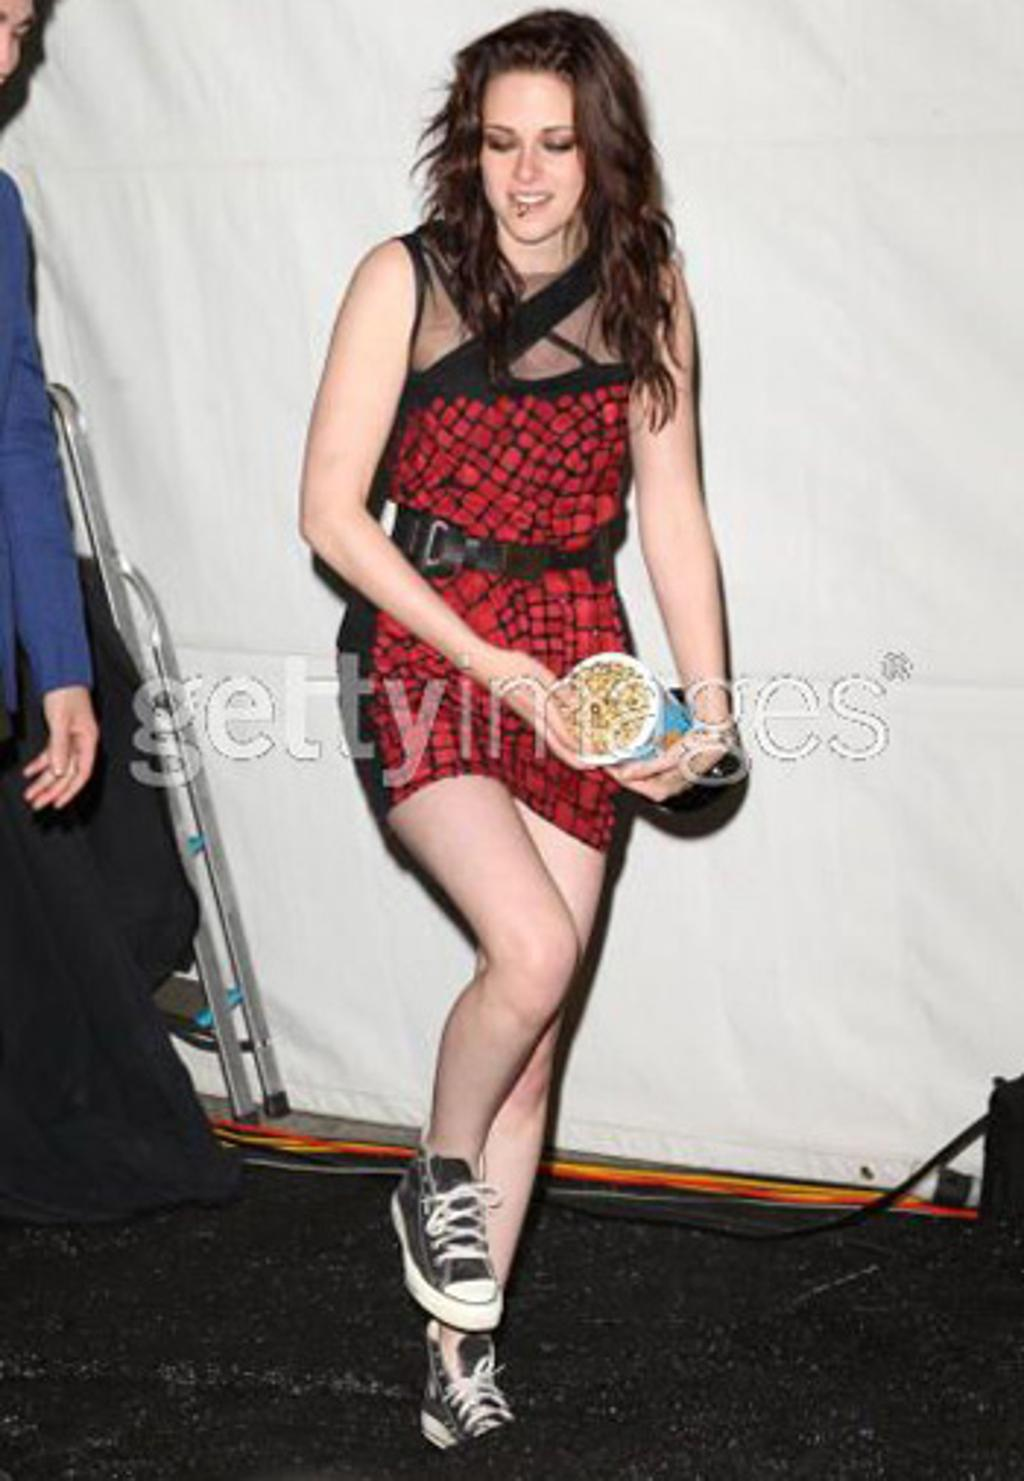face: (474, 69, 590, 243)
